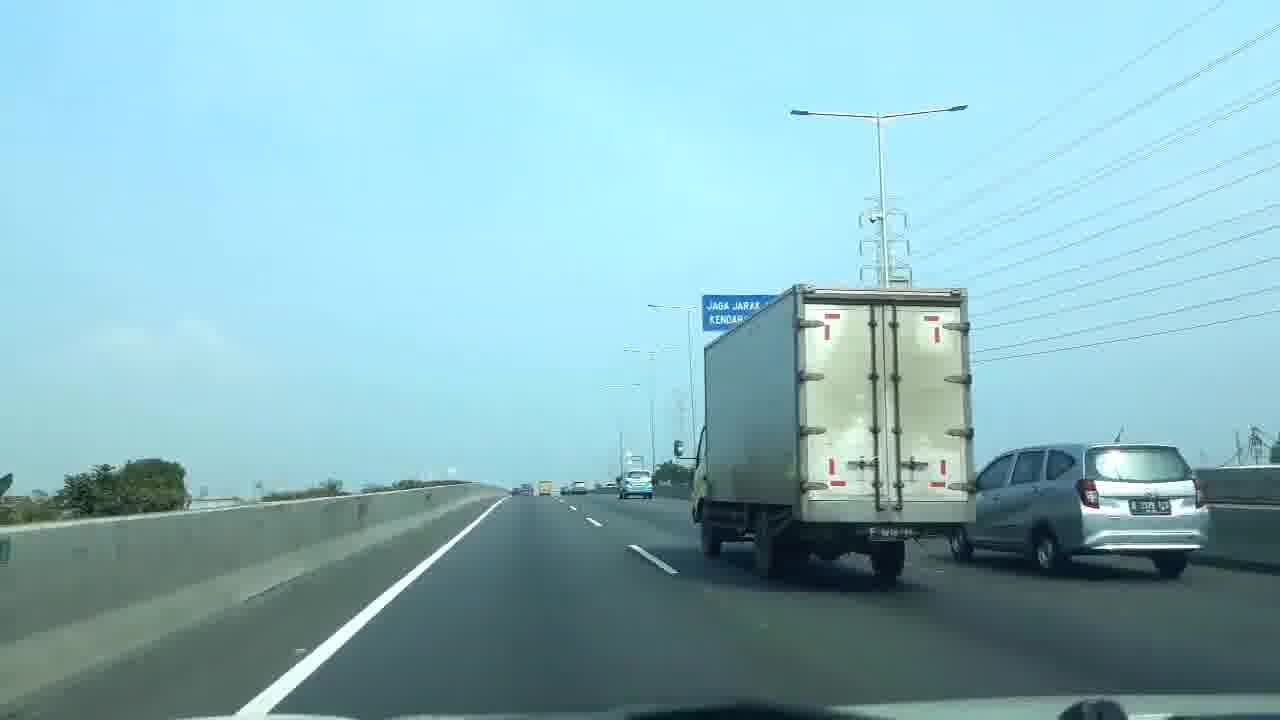plate_positive: (866, 524, 915, 541), (1128, 499, 1172, 515)
